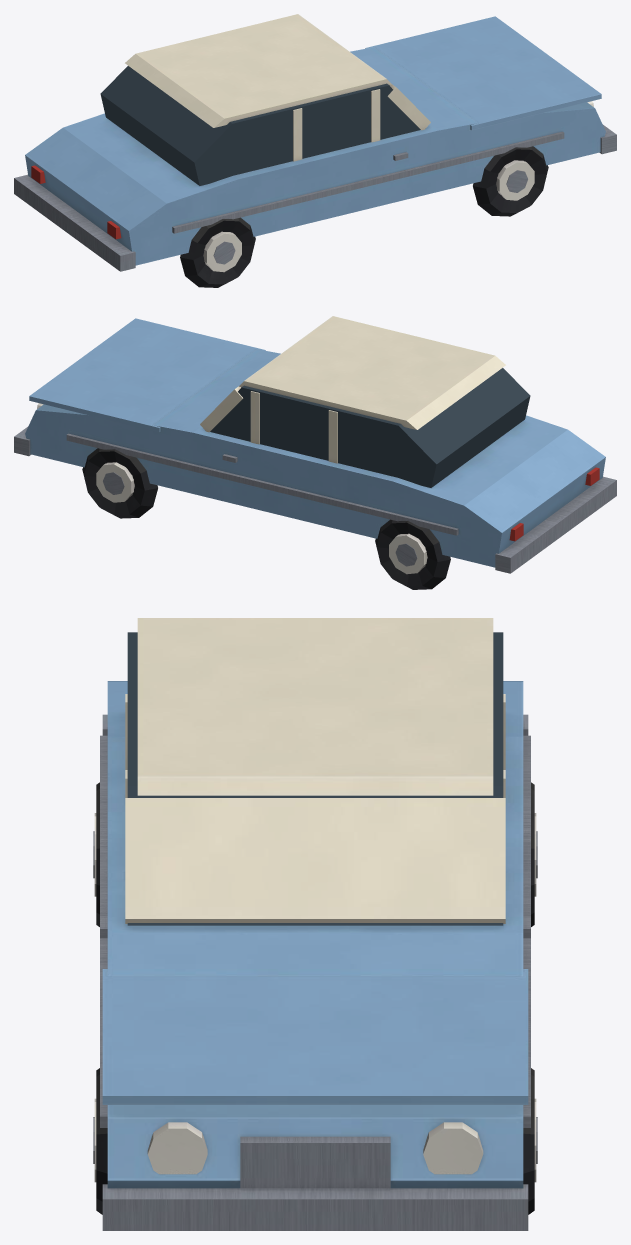
Rendered from gammal_bil_tex.glb.
3 renders of one model, top to bottom at view 1: azimuth 30°, elevation 25°; view 2: azimuth 150°, elevation 25°; view 3: azimuth 270°, elevation 25°, orthographic. The views are drawn at different scales.
Parts seen in each view (by area): view 1: gammal_bil; view 2: gammal_bil; view 3: gammal_bil.
Boxes of the visible parts, x1=… form: gammal_bil: x1=14, y1=14, x2=616, y2=287; gammal_bil: x1=14, y1=316, x2=616, y2=589; gammal_bil: x1=93, y1=618, x2=537, y2=1230.
Bounding box in the file's own units: 4.58 × 1.44 × 1.77.
7 materials, 5 textured.
